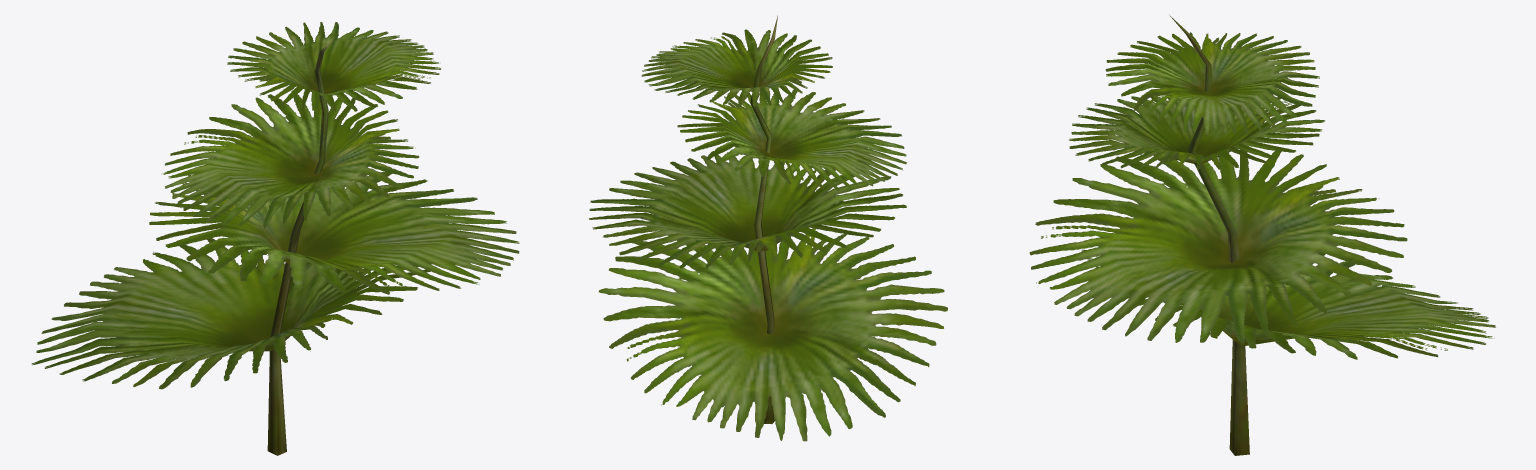
The model's file is DN_lv4_ywFlower01.FBX.
3 renders of one model, left to right at view 1: azimuth 30°, elevation 25°; view 2: azimuth 150°, elevation 25°; view 3: azimuth 270°, elevation 25°, orthographic. The views are drawn at different scales.
Visible parts, largest first — view 1: DN_lv4_ywFlower01; view 2: DN_lv4_ywFlower01; view 3: DN_lv4_ywFlower01.
Boxes of the visible parts, x1,y1,x2,y2 form: DN_lv4_ywFlower01: (31,22,519,455); DN_lv4_ywFlower01: (589,15,947,441); DN_lv4_ywFlower01: (1029,15,1495,455).
Size of the model in its own units: 254 by 241 by 255.
